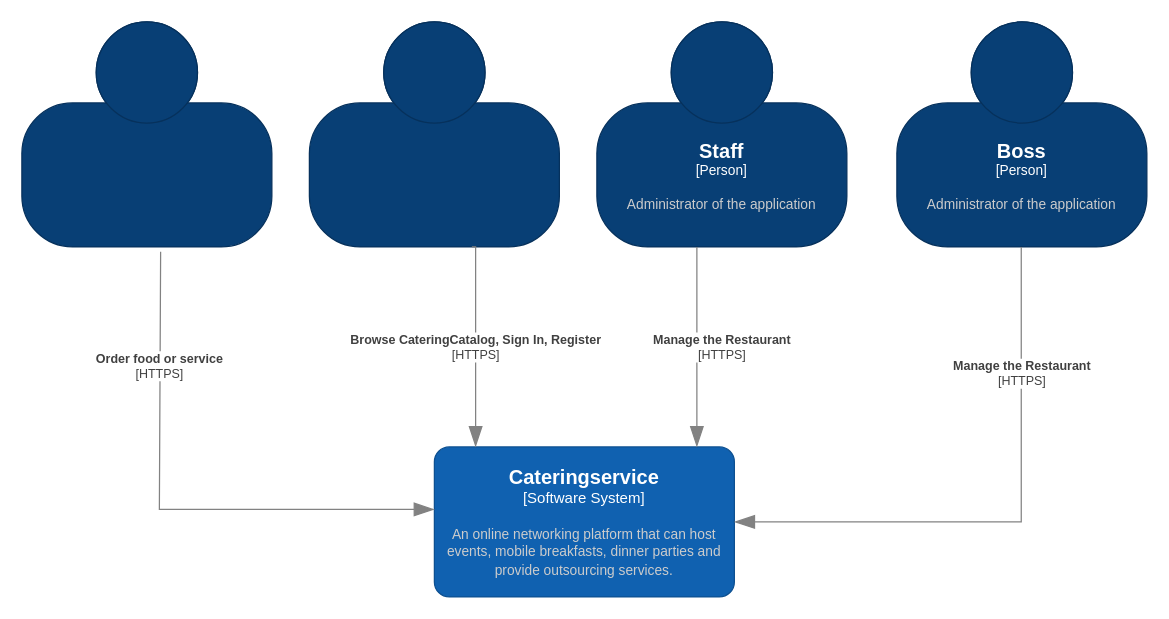
This 1169x619 diagram has some shape labels left out. Each missing label, with the box of its shape:
Customer [Person] User, who is logged in an account: (21, 21, 272, 247)
Unauthenticated User [Person] A visitor of the Restaurant: (308, 21, 559, 247)
